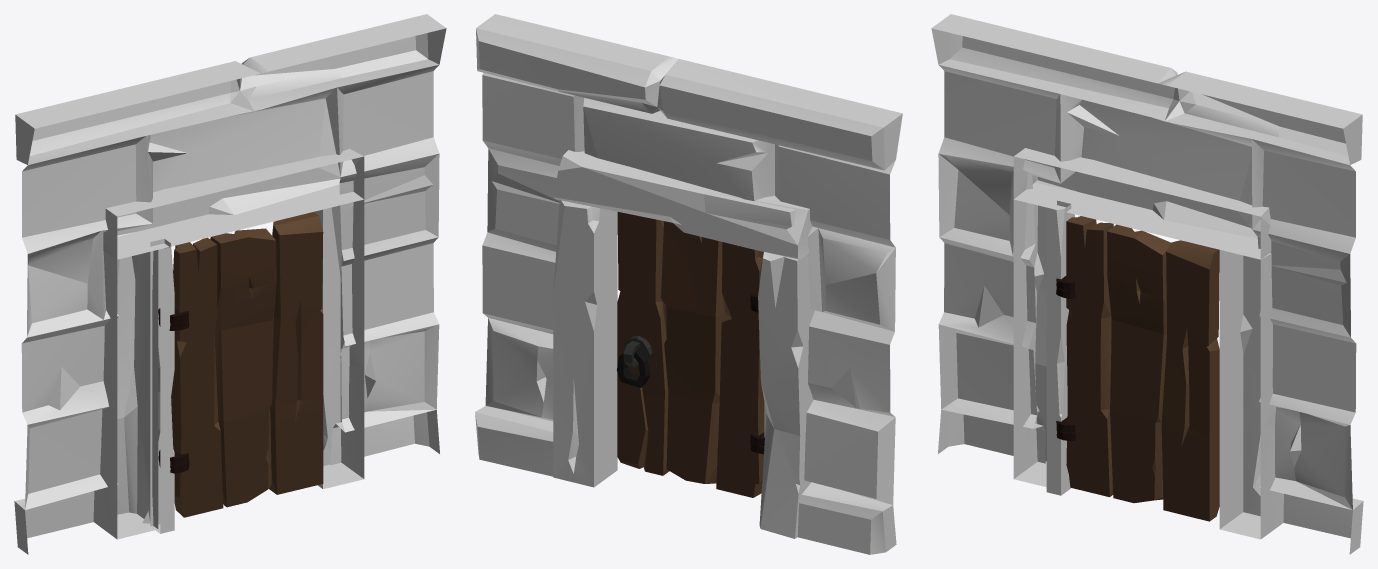
File: NGF_Env_Wooden_doorway_on_the_foundation_02.fbx
The picture shows the model from 3 angles, left to right: view 1: azimuth 30°, elevation 25°; view 2: azimuth 150°, elevation 25°; view 3: azimuth 330°, elevation 25°; orthographic projection.
Parts seen in each view (by area): view 1: NGF_Env_Wooden_doorway_on_the_foundation_02, NGF_Env_Door_04, NGF_Env_Door_attachment_01; view 2: NGF_Env_Wooden_doorway_on_the_foundation_02, NGF_Env_Door_04, NGF_Env_Handle_04, NGF_Env_Handle_attachment_04; view 3: NGF_Env_Wooden_doorway_on_the_foundation_02, NGF_Env_Door_04, NGF_Env_Door_attachment_01.
Part boxes in pixels (x1,y1,x2,y2): NGF_Env_Wooden_doorway_on_the_foundation_02: [14, 14, 446, 554]; NGF_Env_Door_04: [171, 212, 323, 517]; NGF_Env_Door_attachment_01: [150, 238, 174, 533]; NGF_Env_Wooden_doorway_on_the_foundation_02: [475, 14, 902, 554]; NGF_Env_Door_04: [617, 212, 764, 497]; NGF_Env_Handle_04: [616, 349, 650, 387]; NGF_Env_Handle_attachment_04: [623, 336, 652, 367]; NGF_Env_Wooden_doorway_on_the_foundation_02: [931, 14, 1363, 554]; NGF_Env_Door_04: [1066, 216, 1219, 521]; NGF_Env_Door_attachment_01: [1046, 200, 1071, 495].
Bounding box in the file's own units: 4 × 4 × 0.5865.
Materials: 1 (1 with a texture image).
